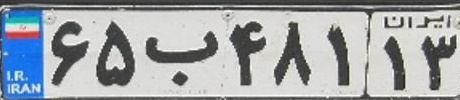character: (141, 21, 219, 91), (270, 15, 317, 90), (92, 15, 138, 91), (318, 15, 362, 92), (225, 15, 270, 90), (48, 16, 91, 91), (419, 32, 460, 96), (380, 29, 413, 93)
